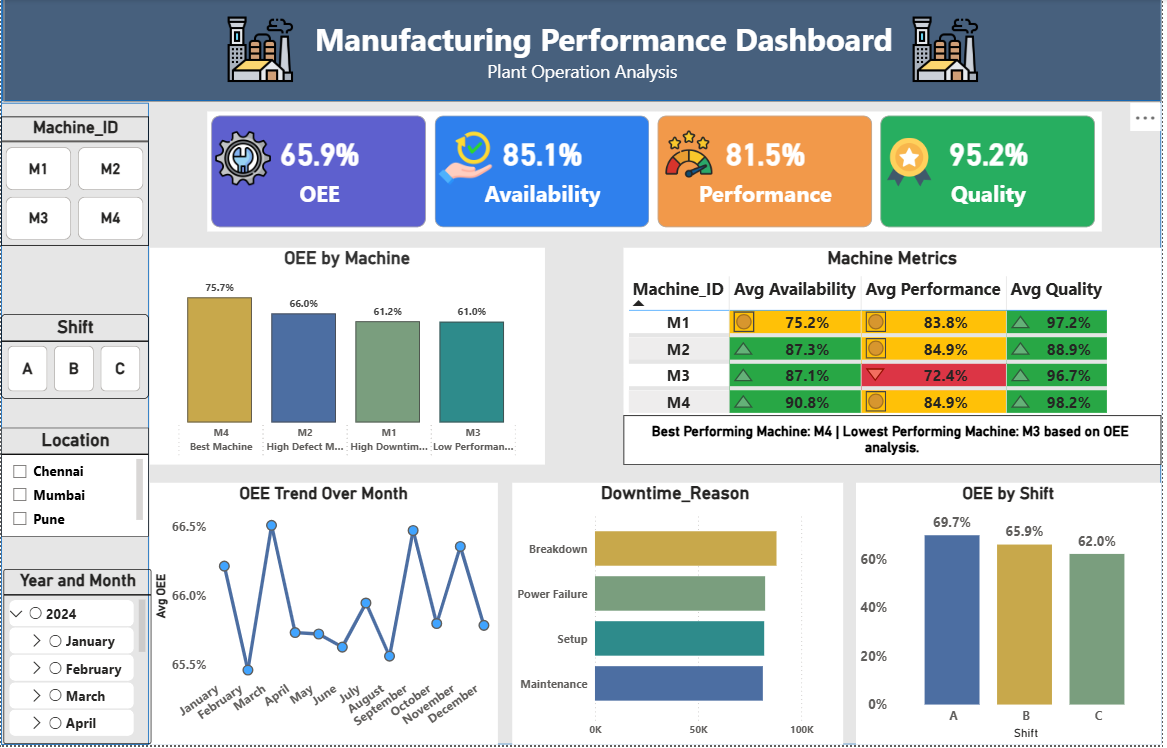

This screenshot's page, from the dashboard's own definition file:
{"tool":"powerbi","page":{"name":"Manufacturing Performance Dashboard ","canvas":[1400,900],"ordinal":0},"visuals":[{"type":"shape","box":[1.6,0,1398.1,123.1],"z":0},{"type":"tableEx","title":"Machine Metrics","fields":{"Values":["dim_machine.Machine_ID","fact_production.Avg Availability","fact_production.Avg Performance","fact_production.Avg Quality"]},"box":[763.8,298.2,635.9,222.5],"z":1000},{"type":"clusteredColumnChart","fields":{"Category":["dim_machine.Machine_ID"],"Y":["All Measures.Avg OEE"]},"box":[197.6,298.6,541.4,312.2],"z":2000},{"type":"textbox","box":[3.4,0,1362.9,123.1],"z":3000},{"type":"clusteredBarChart","title":"Downtime_Reason","fields":{"Category":["dim_downtime.Downtime_Reason"],"Y":["Sum(fact_production.Downtime)"]},"box":[617,610.7,399.2,288.8],"z":4000},{"type":"lineChart","title":"Monthly OEE Trend","fields":{"Category":["dim_date.Date.Variation.Date Hierarchy.Month"],"Y":["fact_production.Avg OEE"]},"box":[197.3,610.7,400.8,288.8],"z":5000},{"type":"columnChart","title":"OEE by Shift","fields":{"Category":["dim_shift.Shift"],"Y":["fact_production.Avg OEE"]},"box":[1032,610.7,367.7,288.8],"z":6000},{"type":"cardVisual","fields":{"Data":["fact_production.Avg OEE","fact_production.Avg Availability","fact_production.Avg Performance","fact_production.Avg Quality"]},"box":[4.7,123.1,1395,168.8],"z":7000},{"type":"image","box":[369.3,143.6,77.3,71],"z":8000},{"type":"image","box":[30,137.3,77.3,71],"z":9000},{"type":"image","box":[716.4,137.3,69.4,77.3],"z":10000},{"type":"image","box":[1062,143.6,77.3,71],"z":11000},{"type":"advancedSlicerVisual","title":"Machine","fields":{"Values":["dim_machine.Machine_ID"]},"box":[4.7,298.2,176.7,138.9],"z":12000},{"type":"advancedSlicerVisual","fields":{"Values":["dim_shift.Shift"]},"box":[5.1,448.7,178.8,101.2],"z":13000},{"type":"slicer","title":"Plant Location","fields":{"Values":["dim_location.Plant_Location"]},"box":[3.2,558.6,178.3,108.9],"z":14000},{"type":"listSlicer","fields":{"Values":["dim_date.Date.Variation.Date Hierarchy.Year","dim_date.Date.Variation.Date Hierarchy.Month","dim_date.Date.Variation.Date Hierarchy.Day"]},"box":[3.4,688.2,177.1,161.9],"z":15000},{"type":"card","fields":{"Values":["dim_date.Machine Insight"]},"box":[763.8,520.7,635.9,77.3],"z":16000},{"type":"image","box":[1082.9,15.2,153.5,92.8],"z":17000},{"type":"image","box":[217.6,15.2,136.6,84.3],"z":18000},{"type":"card","fields":{"Values":["All Measures.Last Refresh"]},"box":[1216.1,15.2,183.9,92.8],"z":19000},{"type":"actionButton","box":[0,850.1,182.2,50.6],"z":20000},{"type":"actionButton","box":[698.2,298.6,36.2,40.7],"z":21000}]}

Visuals, with their boxes in screenshot pixels (x1, y1, x2, y2), scaled from the page's 1400x900 canvas onto the 1167x748 screenshot:
shape: bbox=(1, 0, 1166, 102)
"Machine Metrics" tableEx: bbox=(637, 248, 1166, 433)
clusteredColumnChart - dim_machine.Machine_ID x All Measures.Avg OEE: bbox=(165, 248, 616, 508)
textbox: bbox=(3, 0, 1139, 102)
"Downtime_Reason" clusteredBarChart: bbox=(514, 508, 847, 747)
"Monthly OEE Trend" lineChart: bbox=(164, 508, 499, 747)
"OEE by Shift" columnChart: bbox=(860, 508, 1166, 747)
cardVisual - fact_production.Avg OEE x fact_production.Avg Availability: bbox=(4, 102, 1166, 243)
image: bbox=(308, 119, 372, 178)
image: bbox=(25, 114, 89, 173)
image: bbox=(597, 114, 655, 178)
image: bbox=(885, 119, 950, 178)
"Machine" advancedSlicerVisual: bbox=(4, 248, 151, 363)
advancedSlicerVisual - dim_shift.Shift: bbox=(4, 373, 153, 457)
"Plant Location" slicer: bbox=(3, 464, 151, 555)
listSlicer - dim_date.Date.Variation.Date Hierarchy.Year x dim_date.Date.Variation.Date Hierarchy.Month: bbox=(3, 572, 150, 707)
card - dim_date.Machine Insight: bbox=(637, 433, 1166, 497)
image: bbox=(903, 13, 1031, 90)
image: bbox=(181, 13, 295, 83)
card - All Measures.Last Refresh: bbox=(1014, 13, 1166, 90)
actionButton: bbox=(0, 707, 152, 747)
actionButton: bbox=(582, 248, 612, 282)
